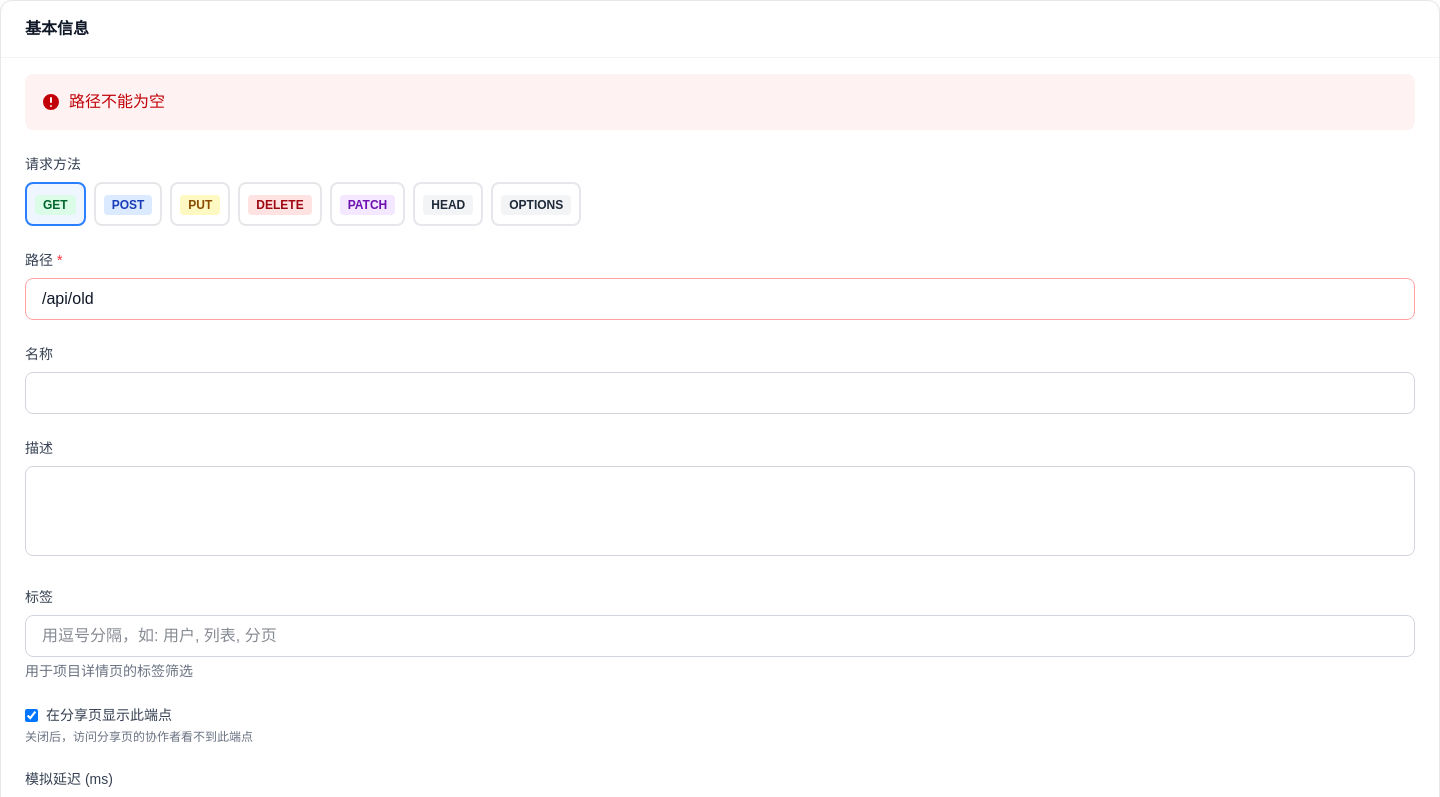
Test: EndpointForm edit 模式 › 路径错误 banner 由 errors prop 驱动,输入时直接清错(无需 blur)
The width and height of the screenshot is (1440, 797).
Expected: the text "路径不能为空" is shown, 25,74 -> 1415,130
In the field labelled "路径 *": point(720, 299) 25,278 -> 1415,320, type "x"
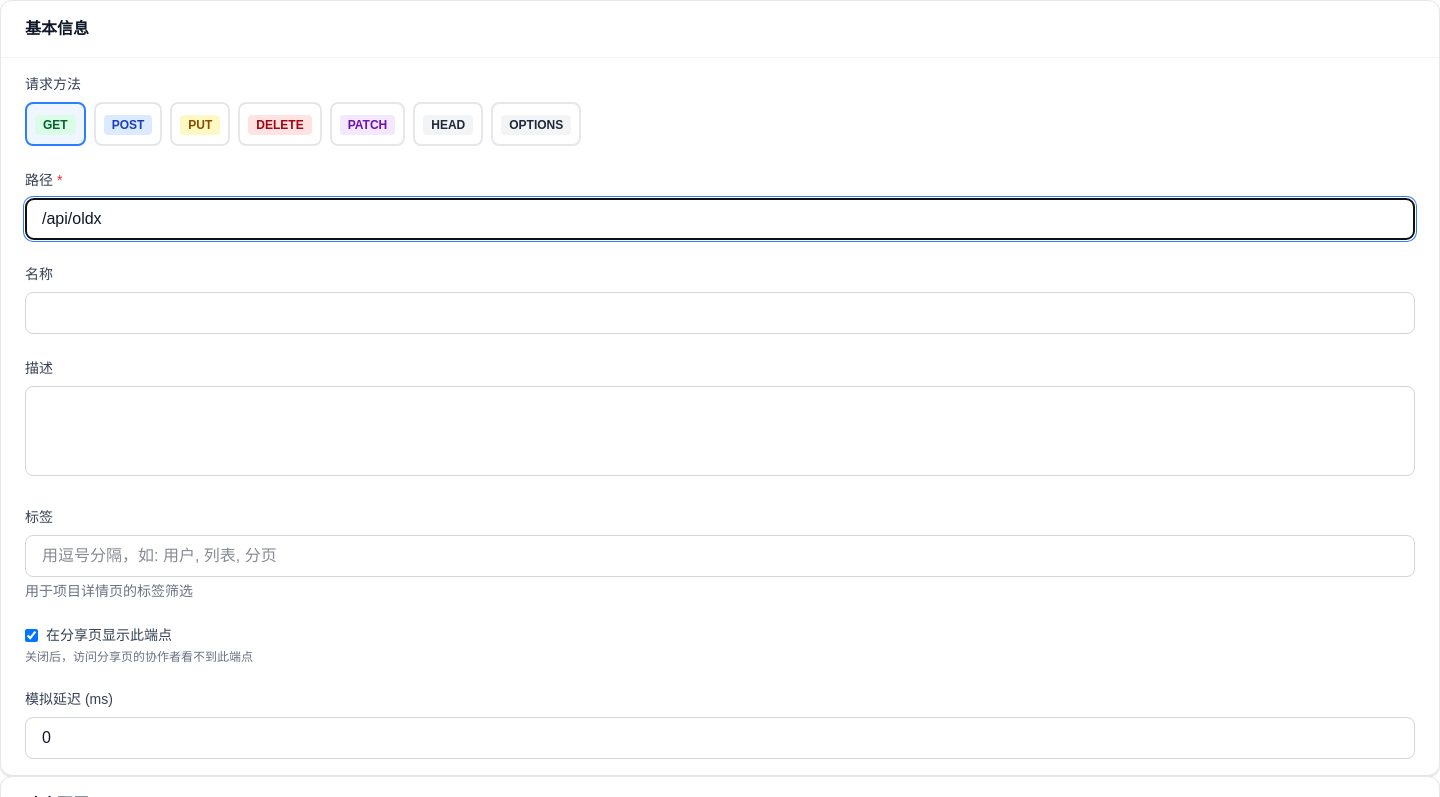
Expected: the text "路径不能为空" is gone
Expected: the field labelled "路径 *" holds "/api/oldx", 25,198 -> 1415,240
